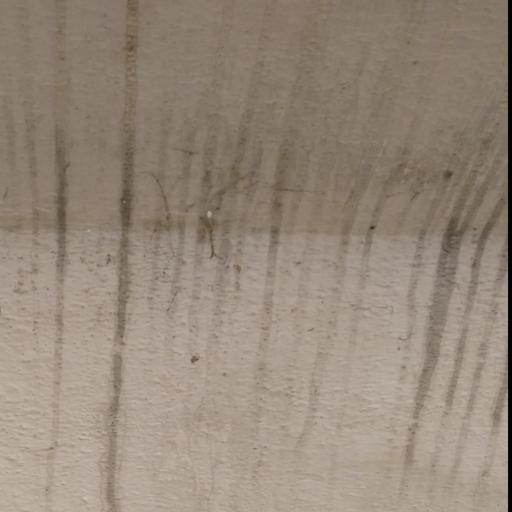stain: (8, 0, 512, 490)
